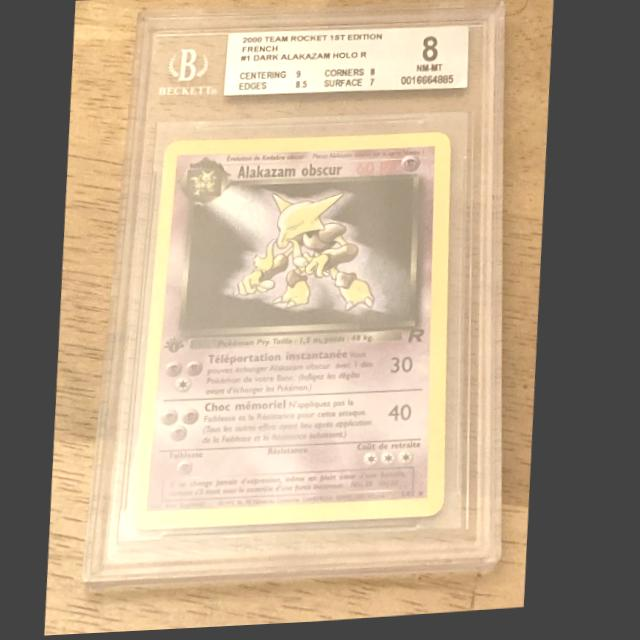bgs_label: (223, 30, 469, 99)
bgs_slab: (87, 4, 510, 585)
card: (136, 136, 453, 531)
